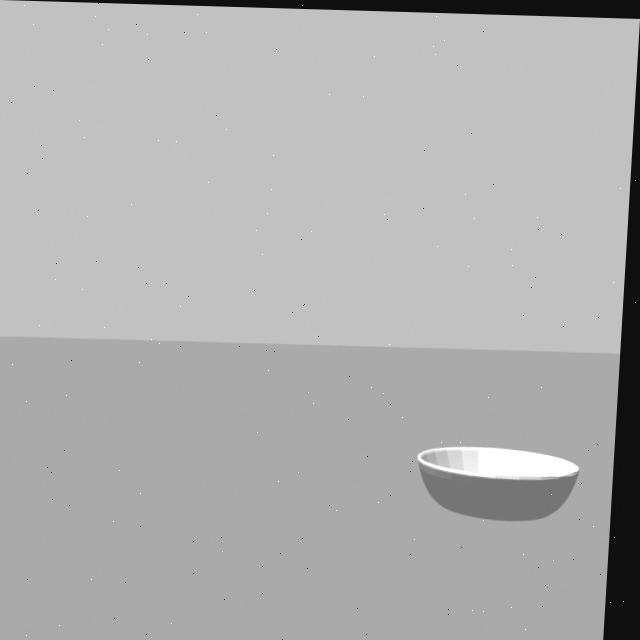bowl: (416, 420, 600, 528)
